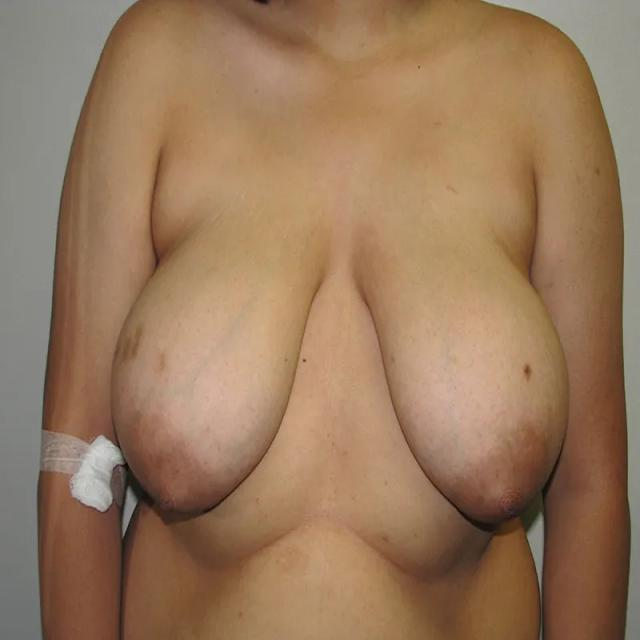Seno ileso: (345, 196, 576, 551), (104, 194, 334, 542)
